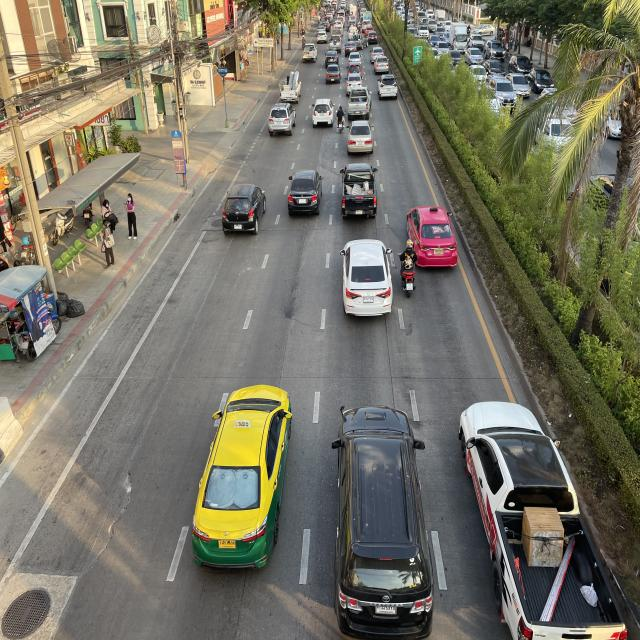bike: (402, 197, 464, 281), (399, 237, 422, 307), (336, 100, 346, 136)
car: (334, 402, 438, 640), (189, 373, 295, 584), (336, 235, 396, 329), (206, 168, 273, 251), (287, 157, 325, 232), (343, 120, 379, 155), (266, 102, 297, 138), (310, 96, 336, 130), (376, 72, 399, 104)
truck: (462, 402, 636, 640), (336, 161, 386, 231), (346, 82, 372, 120), (278, 72, 304, 105)
